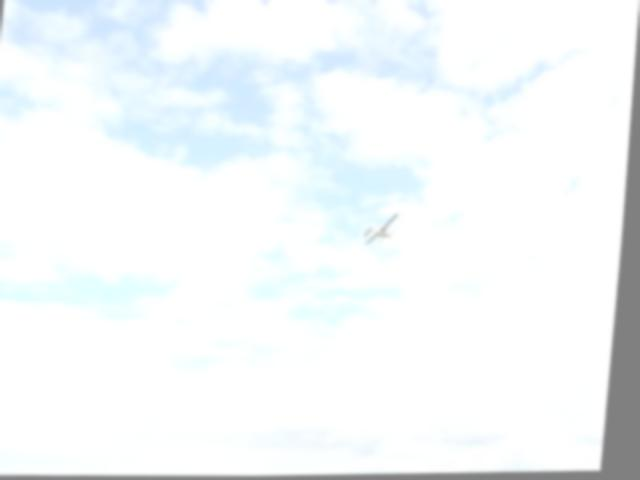uav: (364, 208, 406, 252)
